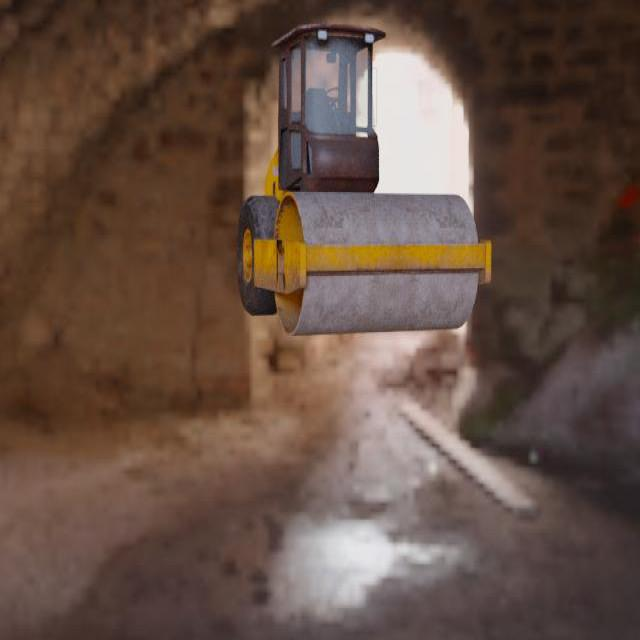Roller: (236, 23, 491, 336)
